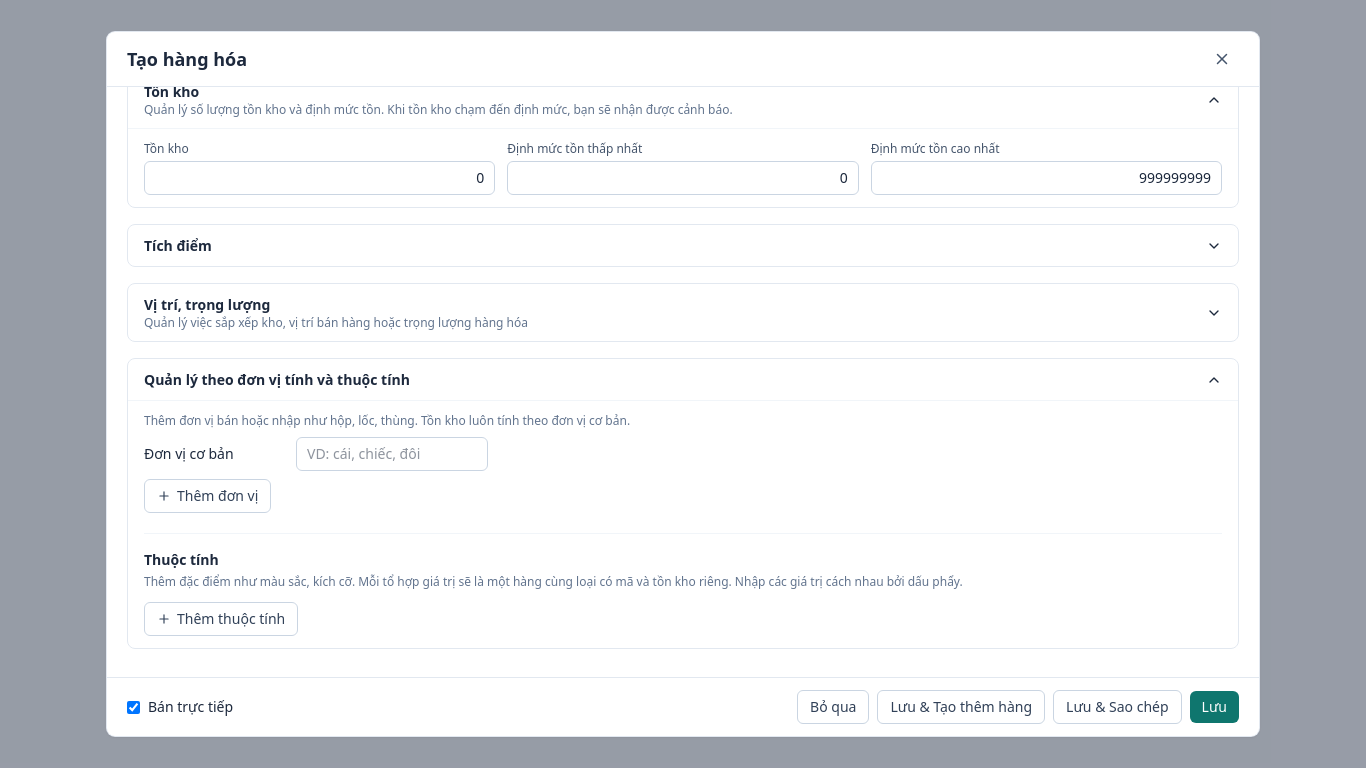
it: two attributes with two values each produce four variant rows
The image size is (1366, 768).
(page scrolled)
Step 1. Click the button "Thêm thuộc tính" → x=221, y=619, box [144, 602, 298, 636]
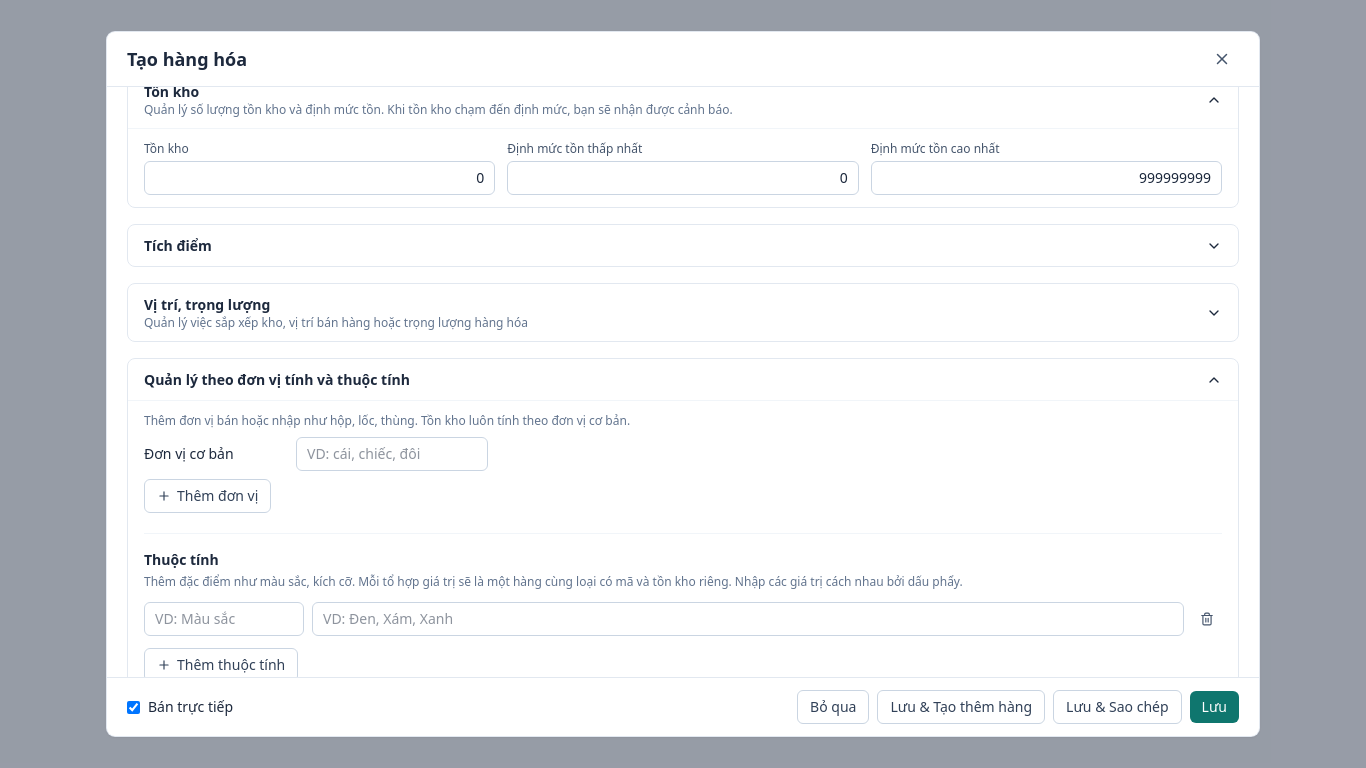
Step 2. Type "Màu" into the field named "Tên thuộc tính 1" → x=224, y=619, box [144, 602, 304, 636]
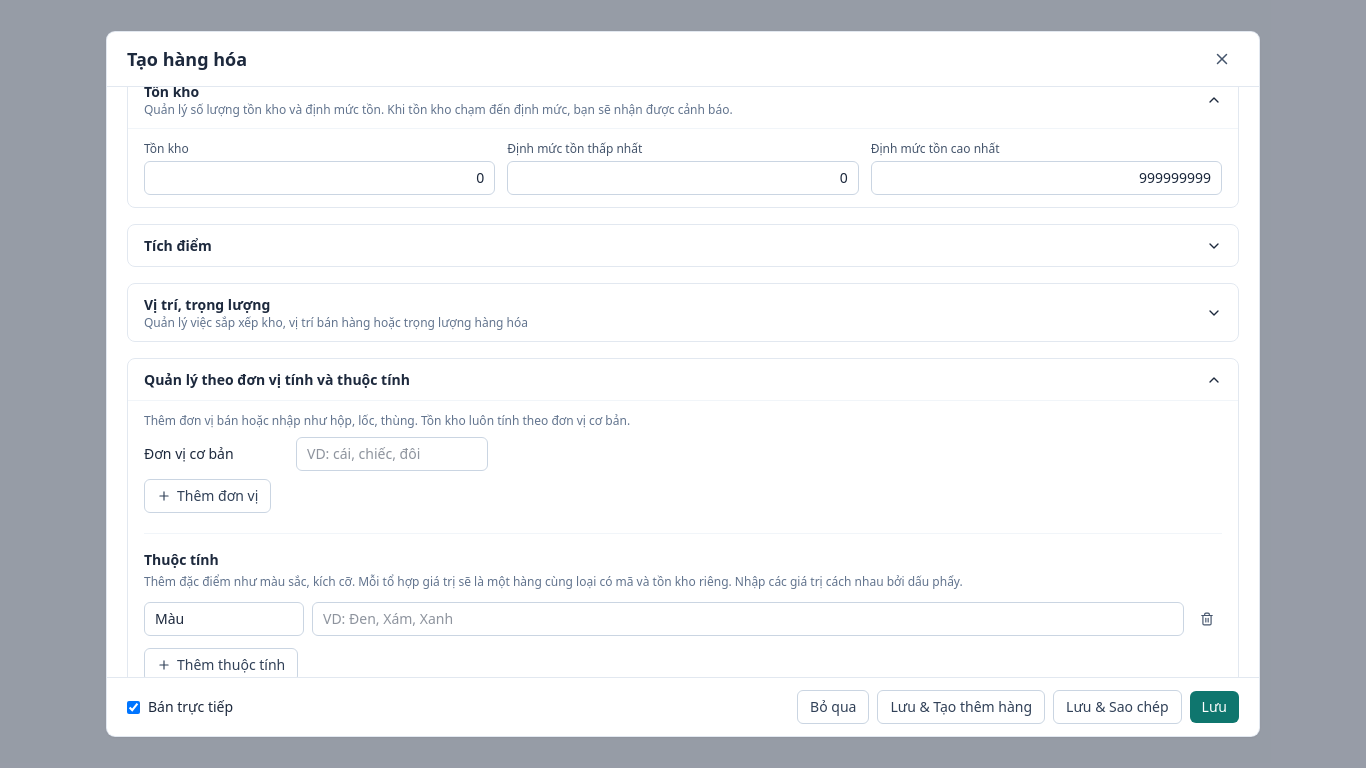
Step 3. Type "Đen, Xám" into the field named "Giá trị thuộc tính 1" → x=748, y=619, box [312, 602, 1184, 636]
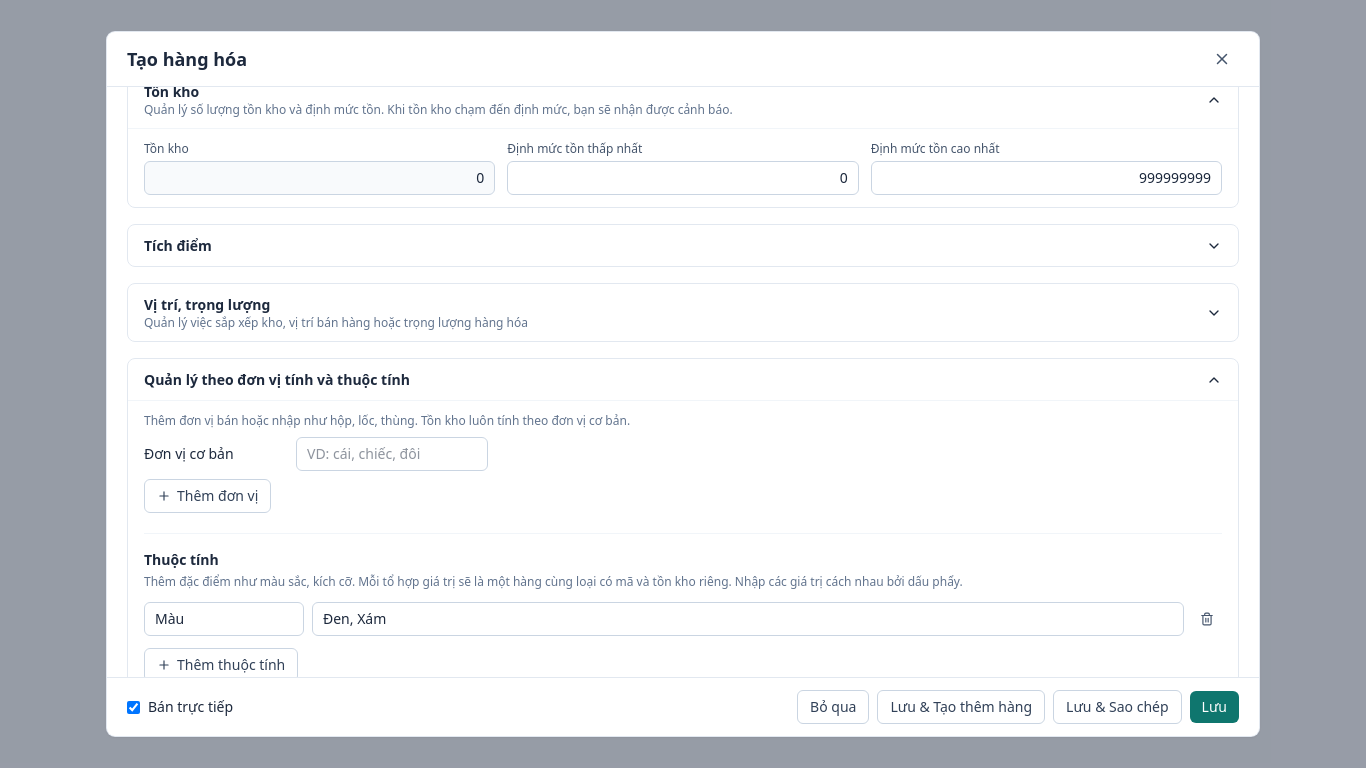
Step 4. Click the button "Thêm thuộc tính" → x=221, y=665, box [144, 648, 298, 682]
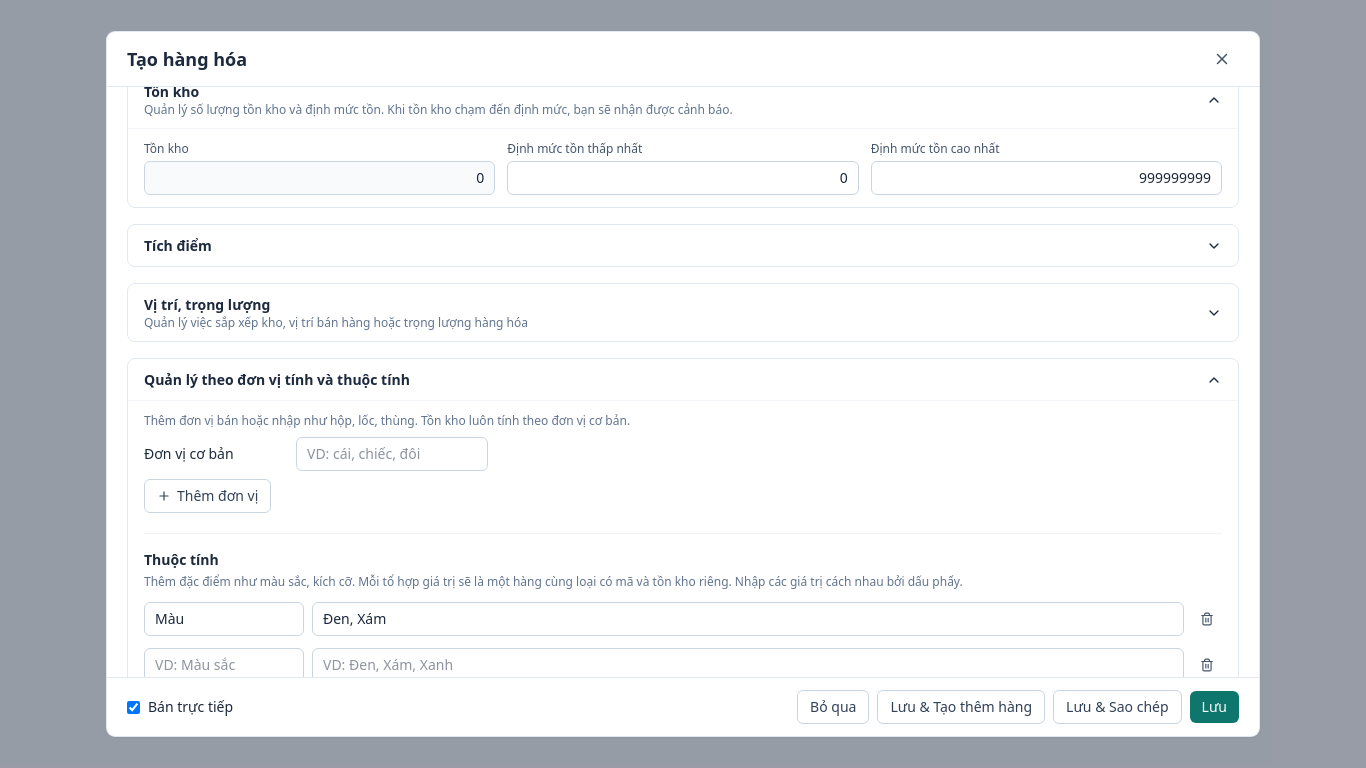
Step 5. Type "Size" into the field named "Tên thuộc tính 2" → x=224, y=665, box [144, 648, 304, 682]
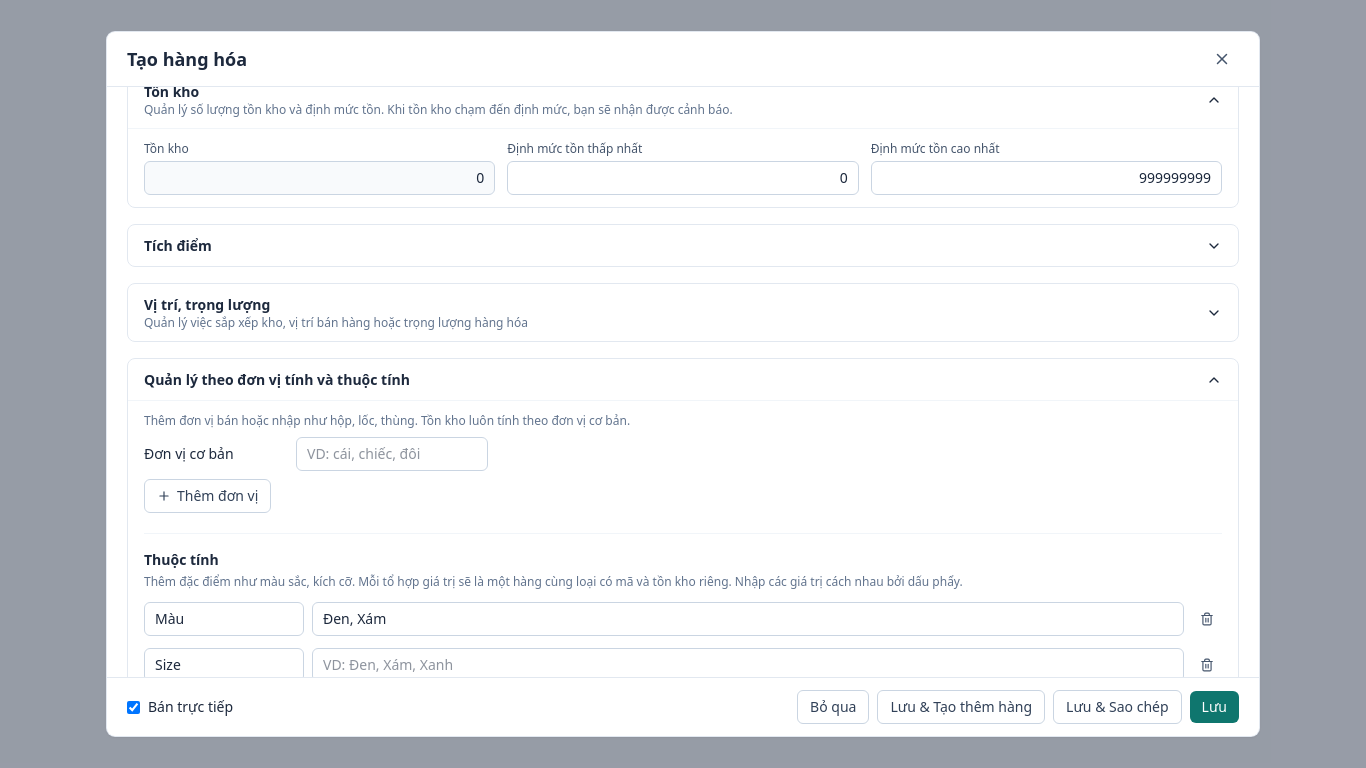
Step 6. Type "M, L" into the field named "Giá trị thuộc tính 2" → x=748, y=665, box [312, 648, 1184, 682]
(page scrolled)
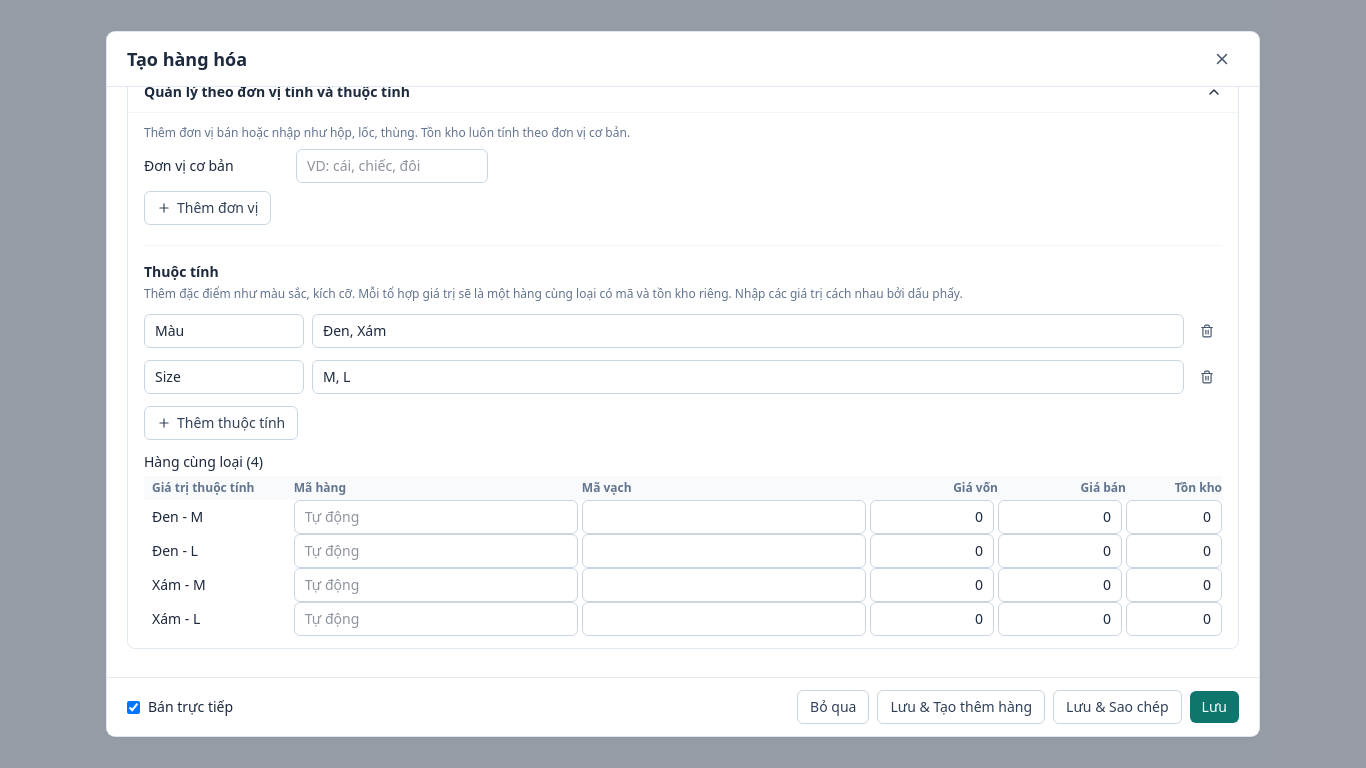
Now the number of rows is 5, box [144, 476, 1222, 500]; [144, 500, 1222, 534]; [144, 534, 1222, 568]; [144, 568, 1222, 602]; [144, 602, 1222, 636]
Now the text "Xám - L" is shown, box [144, 602, 294, 636]
